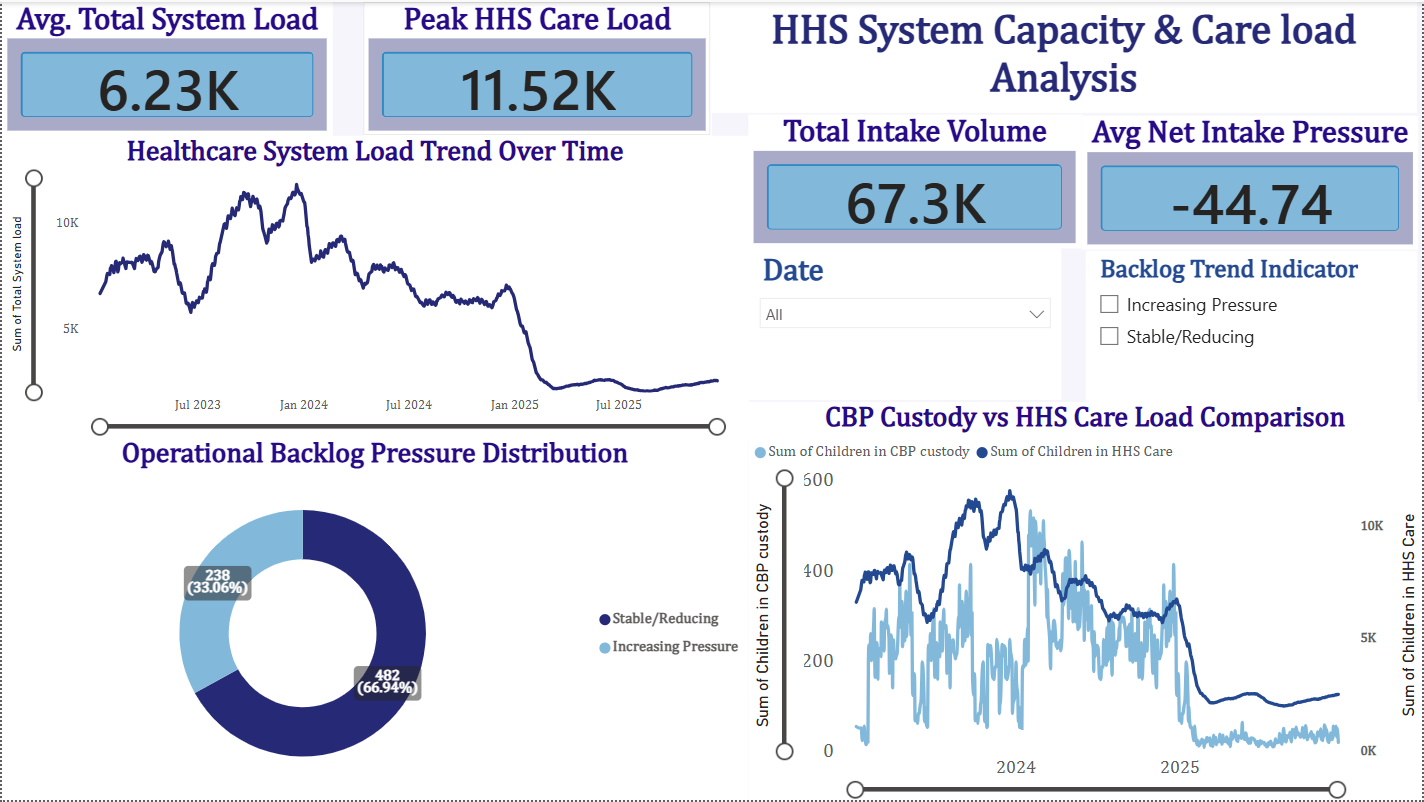

Layout of this report page (visuals, bound fields, positions):
{"tool":"powerbi","page":{"name":"Page 1","canvas":[1280,720],"ordinal":0},"visuals":[{"type":"cardVisual","title":"Avg. Total System Load","fields":{"Data":["HHS_Unaccompanied_Alien_Childre.Average Total System Load"]},"box":[0,0,298.4,121.1],"z":0},{"type":"cardVisual","title":"Peak HHS Care Load","fields":{"Data":["HHS_Unaccompanied_Alien_Childre.Peak HHS Care Load"]},"box":[325.3,0,314.3,121.1],"z":1000},{"type":"cardVisual","title":"Total Intake Volume","fields":{"Data":["HHS_Unaccompanied_Alien_Childre.Total Intake Volume"]},"box":[672.6,101.5,300.8,121.1],"z":2000},{"type":"cardVisual","title":"Avg Net Intake Pressure","fields":{"Data":["HHS_Unaccompanied_Alien_Childre.Average Net Intake Pressure"]},"box":[973.4,102.7,303.3,121.1],"z":3000},{"type":"lineChart","title":"Healthcare System Load Trend Over Time","fields":{"Y":["Sum(HHS_Unaccompanied_Alien_Childre.Total System load)"],"Category":["HHS_Unaccompanied_Alien_Childre.Date"]},"box":[0,121.1,672.6,272.7],"z":4000},{"type":"lineChart","title":"CBP Custody vs HHS Care Load Comparison","fields":{"Category":["HHS_Unaccompanied_Alien_Childre.Date"],"Y":["Sum(HHS_Unaccompanied_Alien_Childre.Children in CBP custody)"],"Y2":["Sum(HHS_Unaccompanied_Alien_Childre.Children in HHS Care)"]},"box":[673,360.2,607.5,360.2],"z":5000},{"type":"donutChart","title":"Operational Backlog Pressure Distribution","fields":{"Category":["HHS_Unaccompanied_Alien_Childre.Backlog Trend Indicator"],"Y":["CountNonNull(HHS_Unaccompanied_Alien_Childre.Backlog Trend Indicator)"]},"box":[0,393.8,672.6,326.5],"z":6000},{"type":"slicer","fields":{"Values":["HHS_Unaccompanied_Alien_Childre.Date.Variation.Date Hierarchy.Year","HHS_Unaccompanied_Alien_Childre.Date.Variation.Date Hierarchy.Quarter","HHS_Unaccompanied_Alien_Childre.Date.Variation.Date Hierarchy.Month","HHS_Unaccompanied_Alien_Childre.Date.Variation.Date Hierarchy.Day"]},"box":[672.6,222.6,282.5,137],"z":7000},{"type":"slicer","fields":{"Values":["HHS_Unaccompanied_Alien_Childre.Backlog Trend Indicator"]},"box":[977,223.8,299.6,137],"z":8000},{"type":"textbox","box":[639.5,0,637.1,100.3],"z":9000}]}

Visuals, with their boxes in screenshot pixels (x1, y1, x2, y2), scaled from the page's 1280x720 canvas onto the 1424x802 screenshot:
"Avg. Total System Load" cardVisual: 0/0/332/135
"Peak HHS Care Load" cardVisual: 362/0/712/135
"Total Intake Volume" cardVisual: 748/113/1083/248
"Avg Net Intake Pressure" cardVisual: 1083/114/1420/249
"Healthcare System Load Trend Over Time" lineChart: 0/135/748/439
"CBP Custody vs HHS Care Load Comparison" lineChart: 749/401/1423/801
"Operational Backlog Pressure Distribution" donutChart: 0/439/748/801
slicer - HHS_Unaccompanied_Alien_Childre.Date.Variation.Date Hierarchy.Year x HHS_Unaccompanied_Alien_Childre.Date.Variation.Date Hierarchy.Quarter: 748/248/1063/401
slicer - HHS_Unaccompanied_Alien_Childre.Backlog Trend Indicator: 1087/249/1420/402
textbox: 711/0/1420/112
